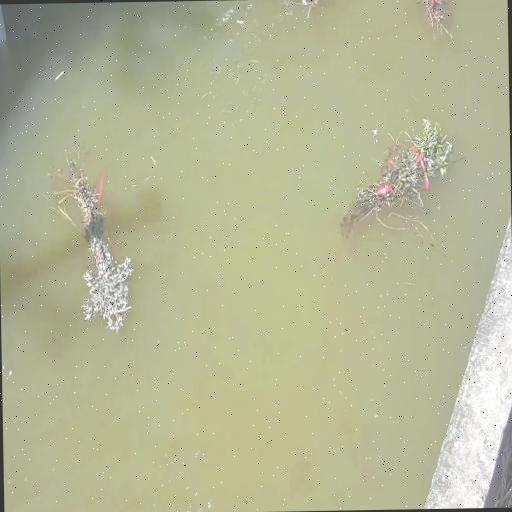twig: (44, 144, 136, 331), (338, 114, 458, 247), (414, 0, 454, 42), (279, 0, 317, 20)
